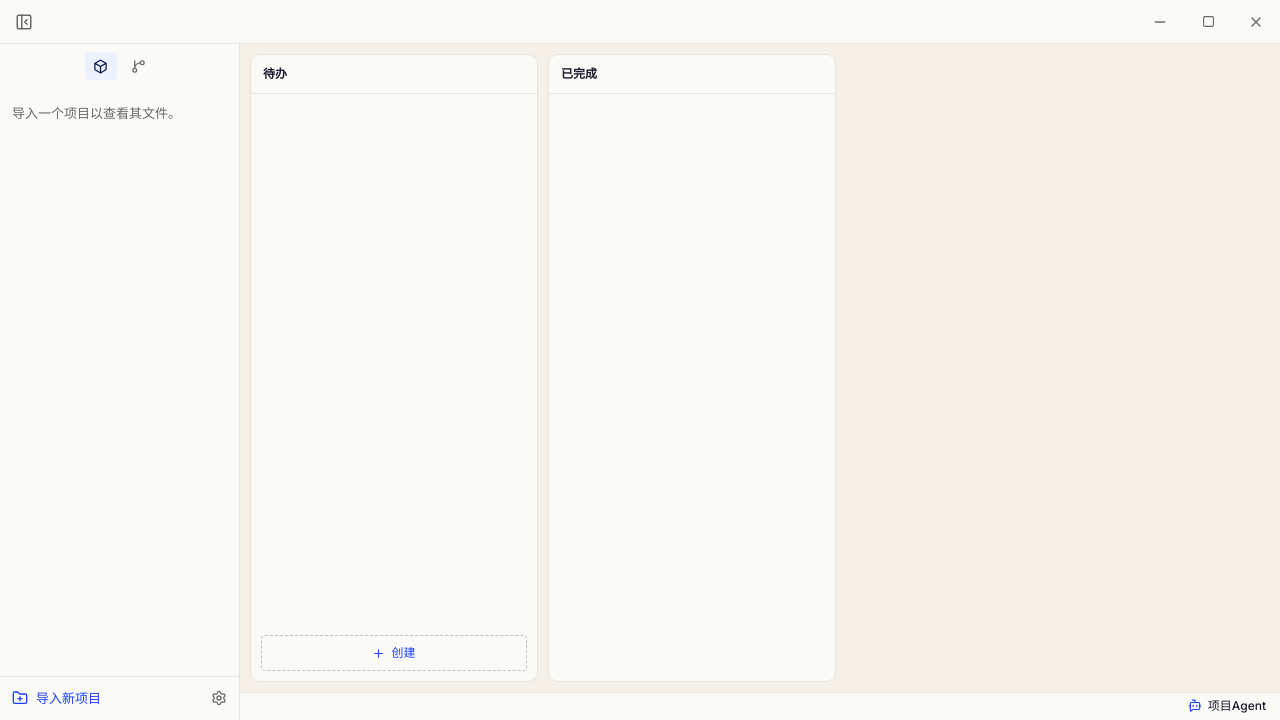
App 需求看板 › 点击「待办」列「+ 创建」触发新建需求流程（已绑定项目进描述想法窗）
Click the button with aria-label "新建需求" at {"x": 394, "y": 653}, box x1=261 y1=635 x2=527 y2=671
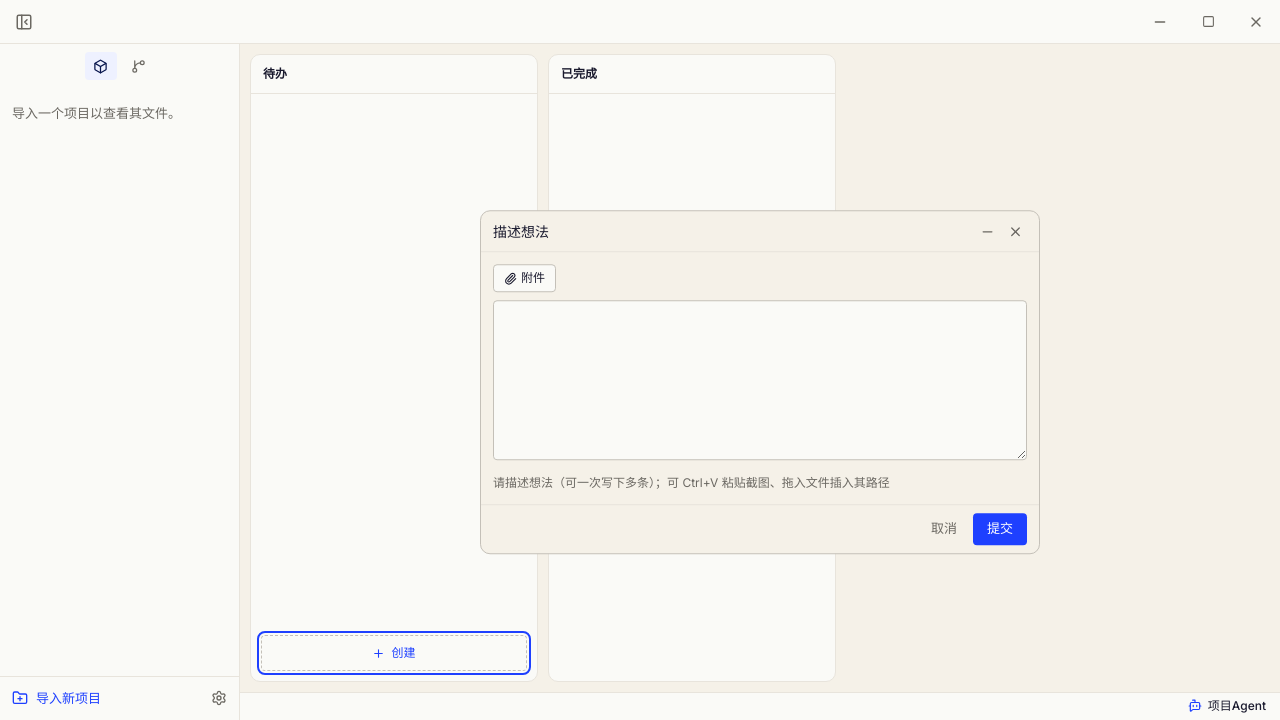
Result: the text "描述想法" is shown at x1=493 y1=221 x2=549 y2=242
